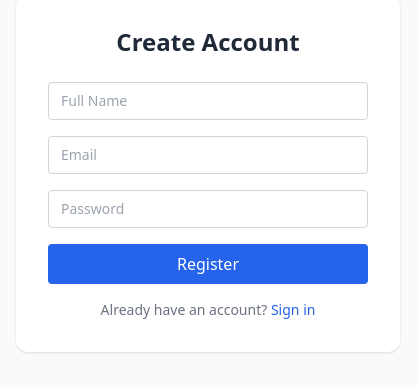
Test case: RegisterPage › shows error on duplicate email
Type "Alice" into the field with placeholder "Full Name".
click(208, 101); type("Alice")  # box [48,82,368,120]
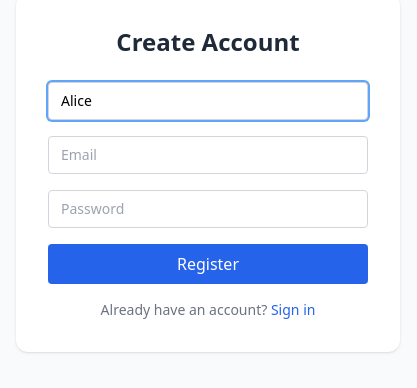
Type "taken@test.com" into the field with placeholder "Email".
click(208, 155); type("taken@test.com")  # box [48,136,368,174]
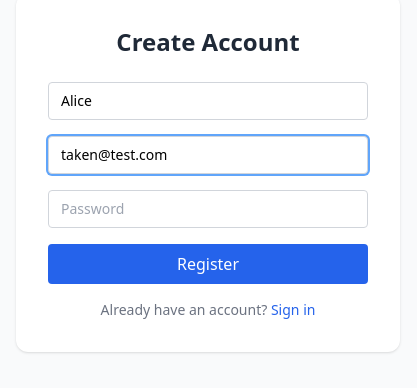
Type "pass" into the password field with placeholder "Password".
click(208, 209); type("pass")  # box [48,190,368,228]
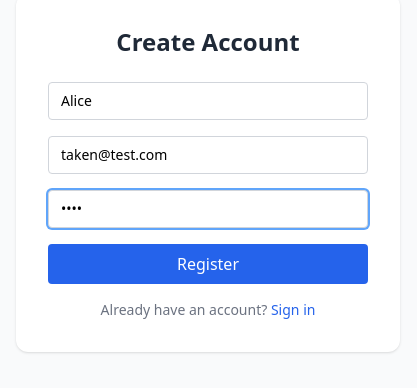
Click the button "Register".
click(208, 264)  # box [48,244,368,284]
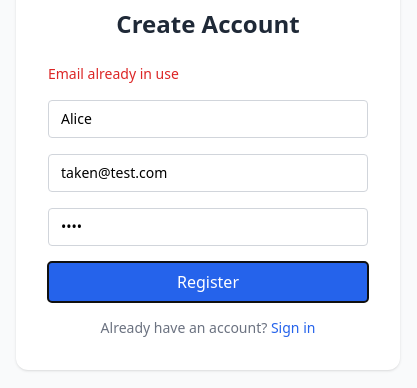
Expected: the text "Email already in use" is shown, [48,64,179,83]
